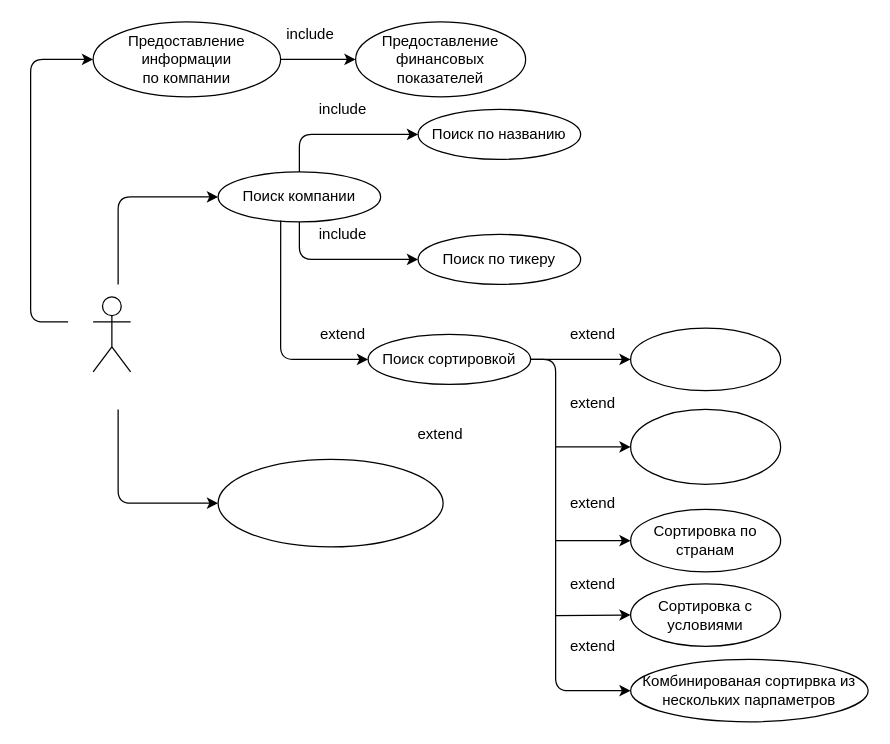
Image size: 890x744. Some labels were removed from this diagram. Here are the shapes that lost their labels. From the top down, the centre of each, then its label:
At pixel 111 334: "Пользователь".
At pixel 705 359: "Сортировка по капитализации".
At pixel 705 446: "Сортировка по индустрии и секторам".
At pixel 330 502: "Сравнение компаний по финансовым показателям".
